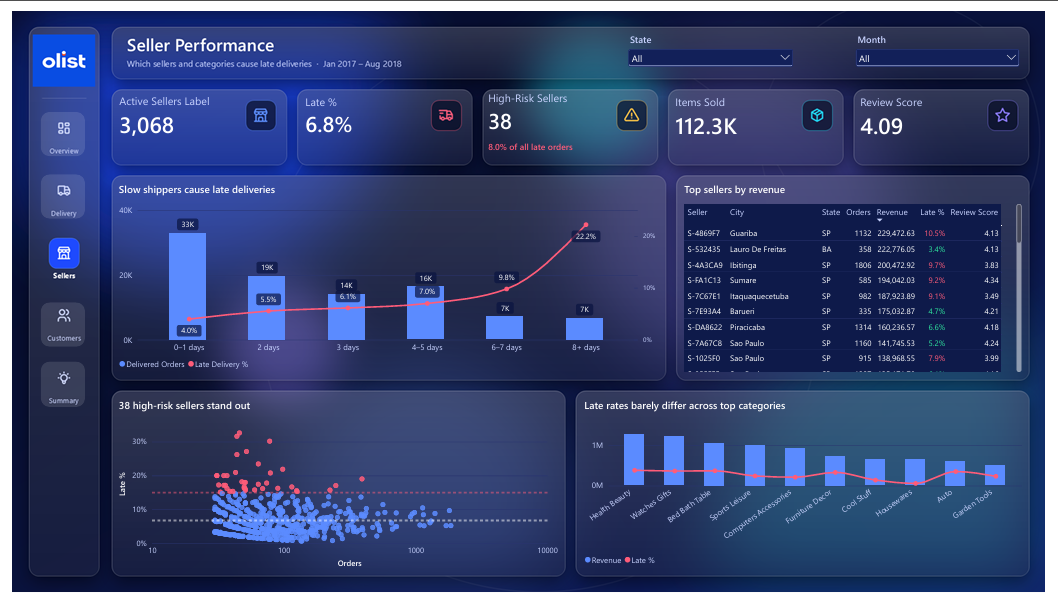

Layout of this report page (visuals, bound fields, positions):
{"tool":"powerbi","page":{"name":"Sellers","canvas":[1920,1080],"ordinal":3},"visuals":[{"type":"cardVisual","fields":{"Data":["_Measures.Active Sellers Label"]},"box":[182.2,117,233.7,153.2],"z":0},{"type":"slicer","fields":{"Values":["Calendar.Year-Month"]},"box":[1563.1,39.3,313.8,80.5],"z":1000},{"type":"slicer","fields":{"Values":["Customers.customer_state"]},"box":[1140.5,38.9,315.4,79.9],"z":2000},{"type":"cardVisual","fields":{"Data":["_Measures.Seller Review Score"]},"box":[1559.5,118.8,248.4,153.4],"z":3000},{"type":"cardVisual","fields":{"Data":["_Measures.Items Sold"]},"box":[1216.1,118.8,216,153.4],"z":4000},{"type":"cardVisual","fields":{"Data":["_Measures.High-Risk Sellers"]},"box":[868.3,149,248.4,153.4],"z":5000},{"type":"cardVisual","fields":{"Data":["_Measures.Late Delivery % (Seller)"]},"box":[527.8,117,243.5,153.2],"z":6000},{"type":"actionButton","box":[51.8,302.4,82.1,82.1],"z":7000},{"type":"actionButton","box":[51.8,302.4,82.1,82.1],"z":8000},{"type":"actionButton","box":[51.8,185.8,82.1,82.1],"z":9000},{"type":"actionButton","box":[51.8,540,82.1,82.1],"z":10000},{"type":"actionButton","box":[51.8,302.4,82.1,82.1],"z":11000},{"type":"actionButton","box":[51.8,185.8,82.1,82.1],"z":12000},{"type":"actionButton","box":[51.8,540,82.1,82.1],"z":13000},{"type":"lineClusteredColumnComboChart","title":"Slow shippers cause late deliveries","fields":{"Category":["Orders.Handling Bucket"],"Y":["_Measures.Delivered Orders"],"Y2":["_Measures.Late Delivery %"]},"box":[181.4,302.4,1034.6,382.3],"z":13001},{"type":"tableEx","title":"Top sellers by revenue","fields":{"Values":["Sellers.Seller Code","Sellers.seller_city","Sellers.seller_state","_Measures.Seller Orders","_Measures.Seller Revenue","_Measures.Late Delivery % (Seller)","_Measures.Seller Review Score"]},"box":[1233.4,302.4,658.8,382.3],"z":13002},{"type":"scatterChart","title":"38 high-risk sellers stand out","fields":{"Category":["Sellers.Seller Code"],"X":["_Measures.Seller Orders"],"Y":["_Measures.Late Delivery % (Seller)"]},"box":[181.5,702.6,848.2,346],"z":13003},{"type":"lineClusteredColumnComboChart","title":"Late rates barely differ across top categories","fields":{"Category":["Products.Category"],"Y":["_Measures.Seller Revenue"],"Y2":["_Measures.Late Delivery % (Seller)"]},"box":[1046.5,702.6,846.1,346],"z":13004},{"type":"actionButton","box":[51.8,650.2,82.1,84.2],"z":13005}]}

Visuals, with their boxes on the page's 1920x1080 design canvas (x1, y1, x2, y2). These are canvas units, not pixel positions in the 1058x596 screenshot, which may show the page scaled, cropped or inside an application window:
cardVisual - _Measures.Active Sellers Label: bbox(182, 117, 416, 270)
slicer - Calendar.Year-Month: bbox(1563, 39, 1877, 120)
slicer - Customers.customer_state: bbox(1140, 39, 1456, 119)
cardVisual - _Measures.Seller Review Score: bbox(1560, 119, 1808, 272)
cardVisual - _Measures.Items Sold: bbox(1216, 119, 1432, 272)
cardVisual - _Measures.High-Risk Sellers: bbox(868, 149, 1117, 302)
cardVisual - _Measures.Late Delivery % (Seller): bbox(528, 117, 771, 270)
actionButton: bbox(52, 302, 134, 384)
actionButton: bbox(52, 302, 134, 384)
actionButton: bbox(52, 186, 134, 268)
actionButton: bbox(52, 540, 134, 622)
actionButton: bbox(52, 302, 134, 384)
actionButton: bbox(52, 186, 134, 268)
actionButton: bbox(52, 540, 134, 622)
"Slow shippers cause late deliveries" lineClusteredColumnComboChart: bbox(181, 302, 1216, 685)
"Top sellers by revenue" tableEx: bbox(1233, 302, 1892, 685)
"38 high-risk sellers stand out" scatterChart: bbox(182, 703, 1030, 1049)
"Late rates barely differ across top categories" lineClusteredColumnComboChart: bbox(1046, 703, 1893, 1049)
actionButton: bbox(52, 650, 134, 734)
